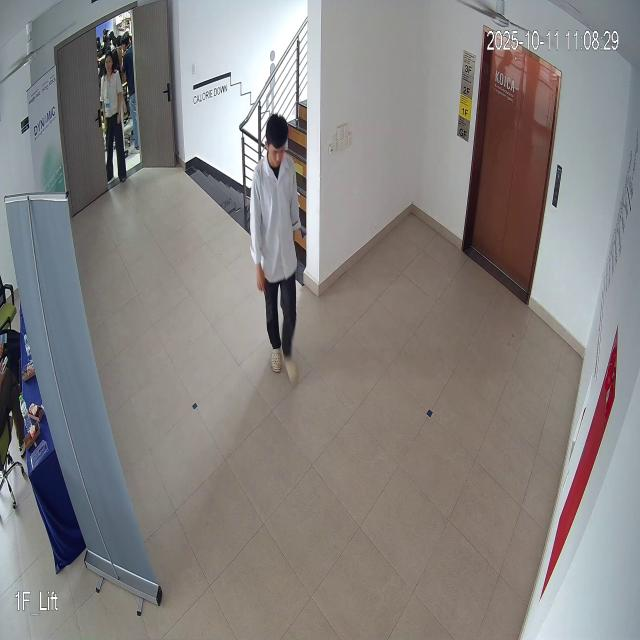face: (262, 104, 294, 177)
